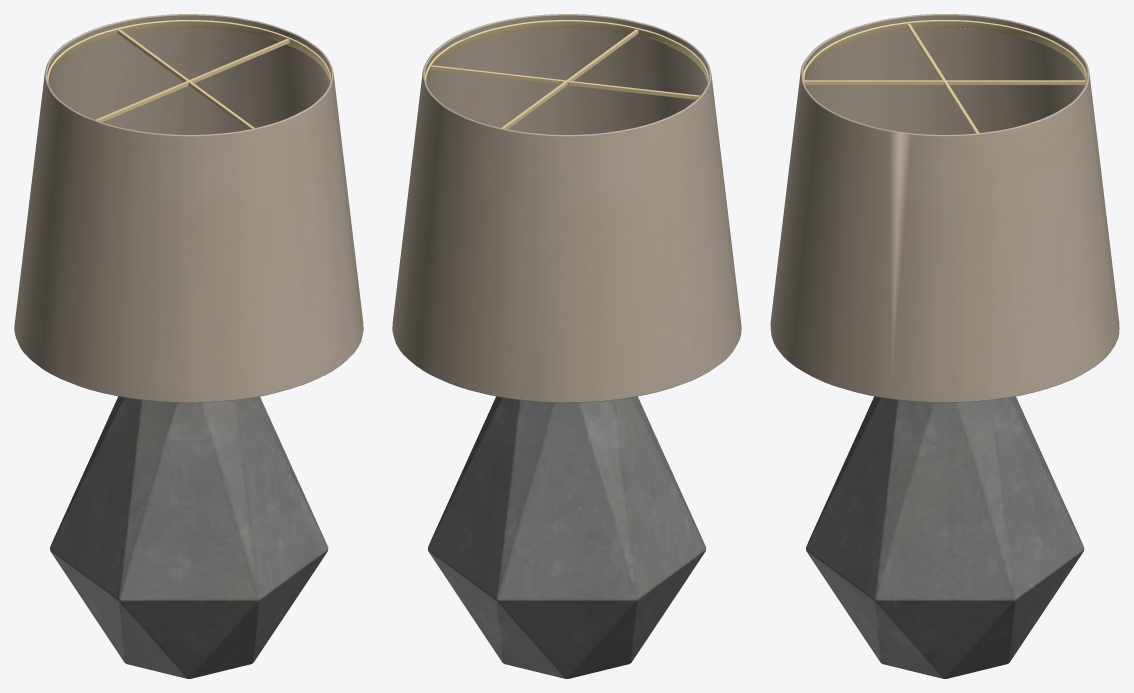
Rendered from B07374SBFM.glb.
3 renders of one model, left to right at view 1: azimuth 30°, elevation 25°; view 2: azimuth 150°, elevation 25°; view 3: azimuth 270°, elevation 25°, orthographic.
Visible parts, largest first — view 1: RootNode; view 2: RootNode; view 3: RootNode.
Boxes of the visible parts, x1,y1,x2,y2 form: RootNode: [14, 14, 363, 678]; RootNode: [392, 14, 741, 678]; RootNode: [770, 14, 1119, 678].
Bounding box in the file's own units: 0.2758 × 0.5009 × 0.2759.
1 material, 1 textured.
